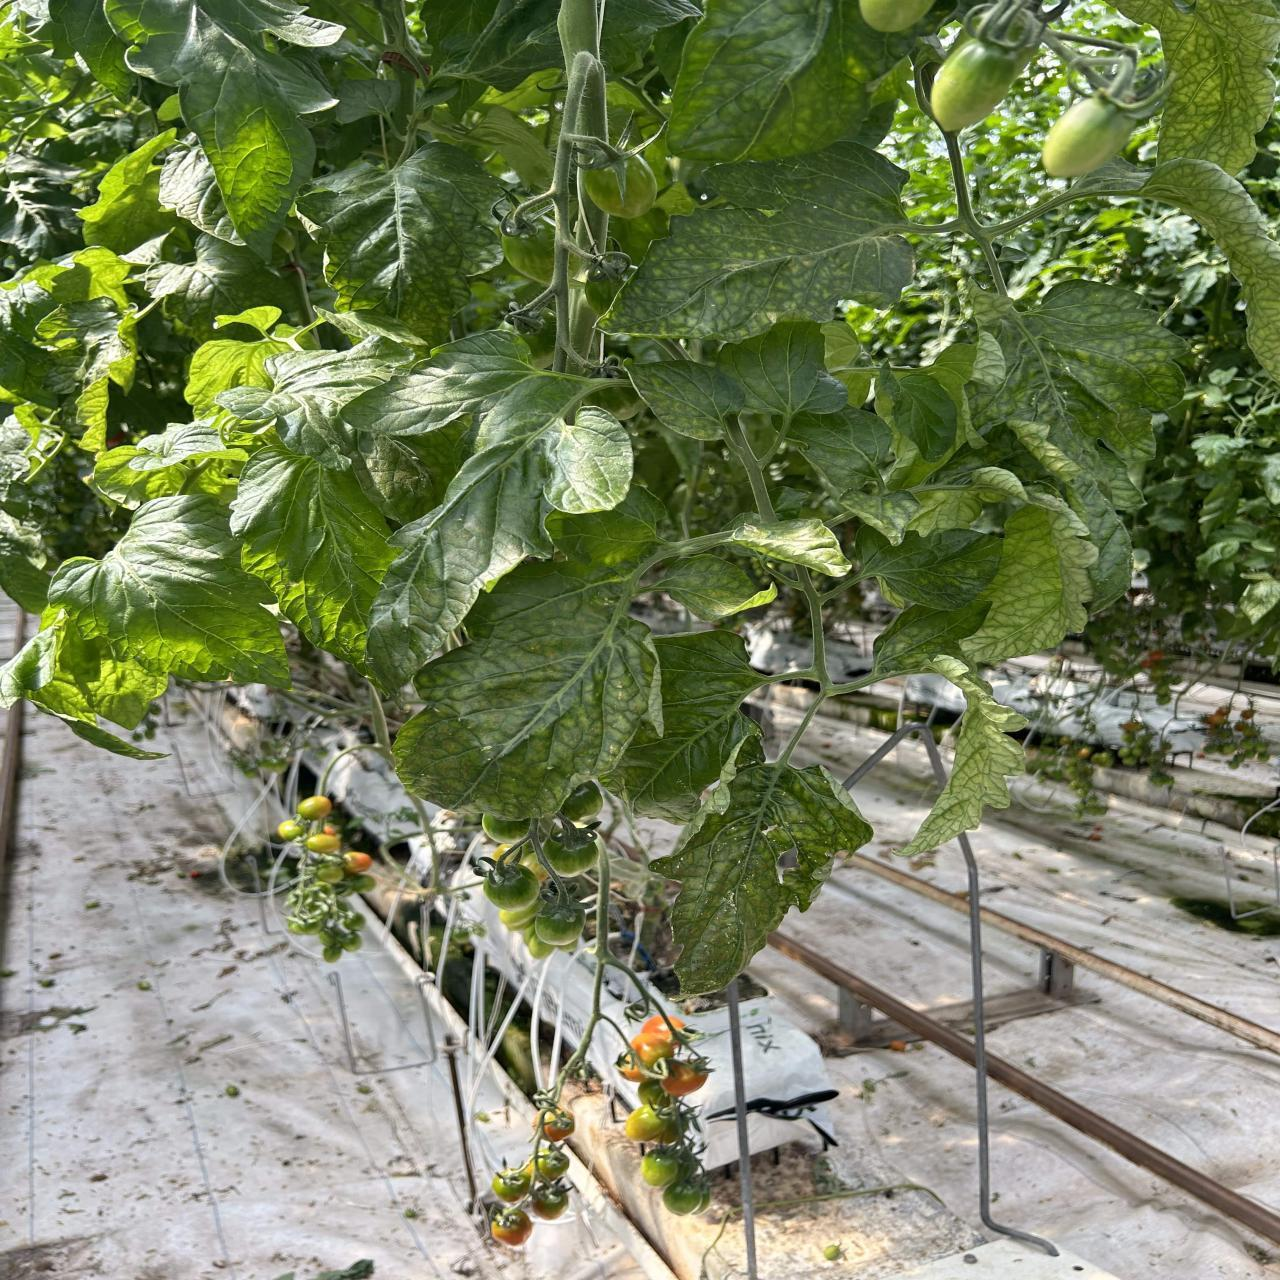Rugose leaf: (395, 561, 665, 819), (601, 142, 919, 340), (649, 762, 872, 994), (968, 282, 1184, 510), (665, 0, 919, 170), (300, 142, 510, 342)
